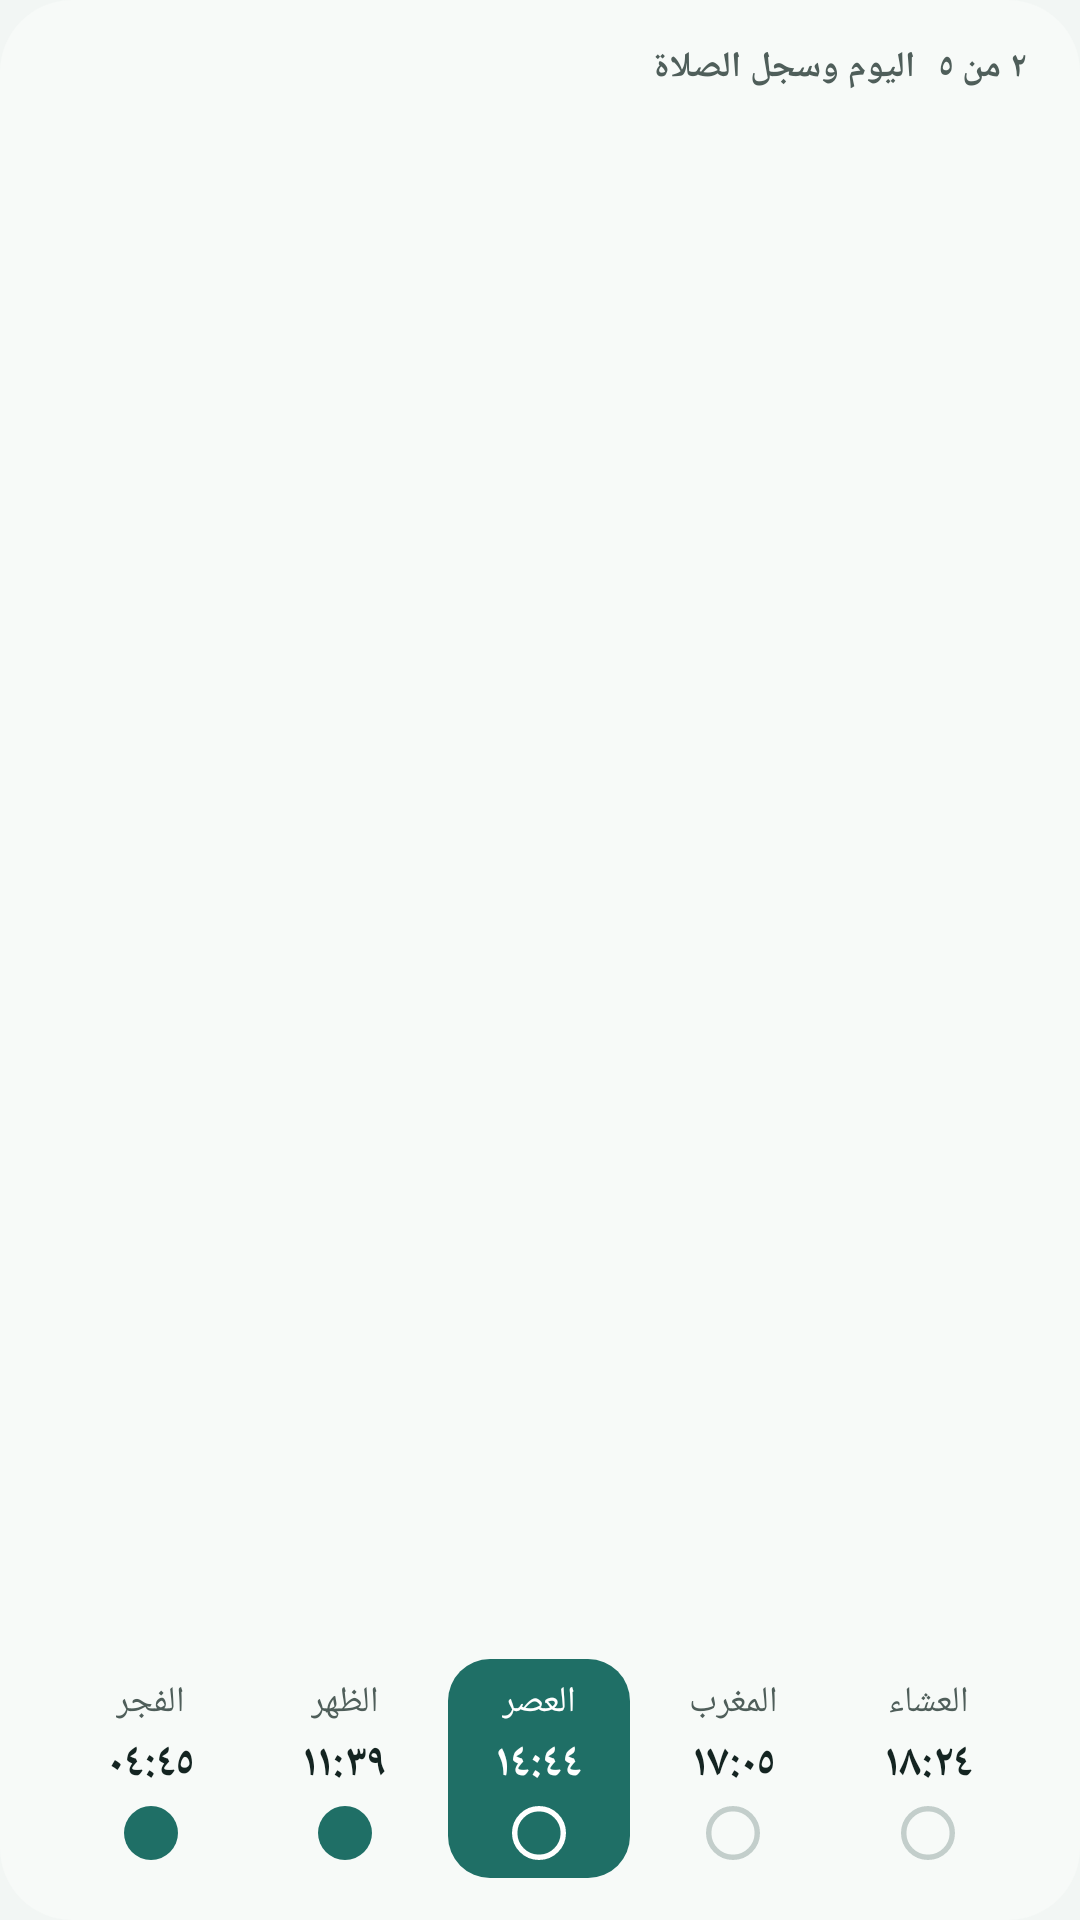

Where to tap for icons on this 1080x1920 app screen, as point (x, y):
widget dot prayed: point (151, 1833), point (345, 1833)
widget ring: point (539, 1833), point (733, 1833), point (928, 1833)
